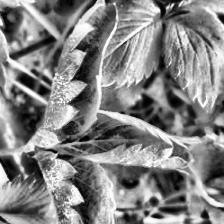Powdery Mildew Leaf: (22, 0, 119, 153), (47, 110, 202, 175), (25, 149, 117, 224)
